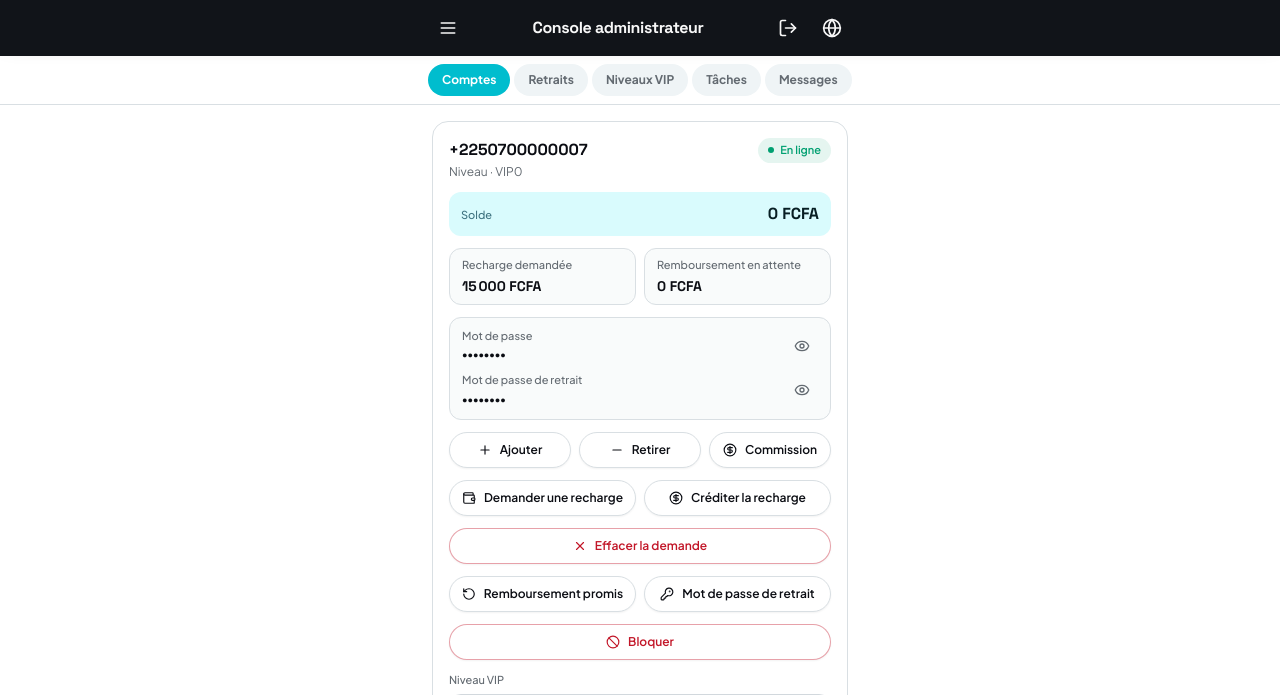
Scenario: admin recharge flow › prefills the requested recharge amount when one is already set
Click the button with test id "admin.recharge_request_button.1" at coordinates (542, 498), box [449,480,636,516]
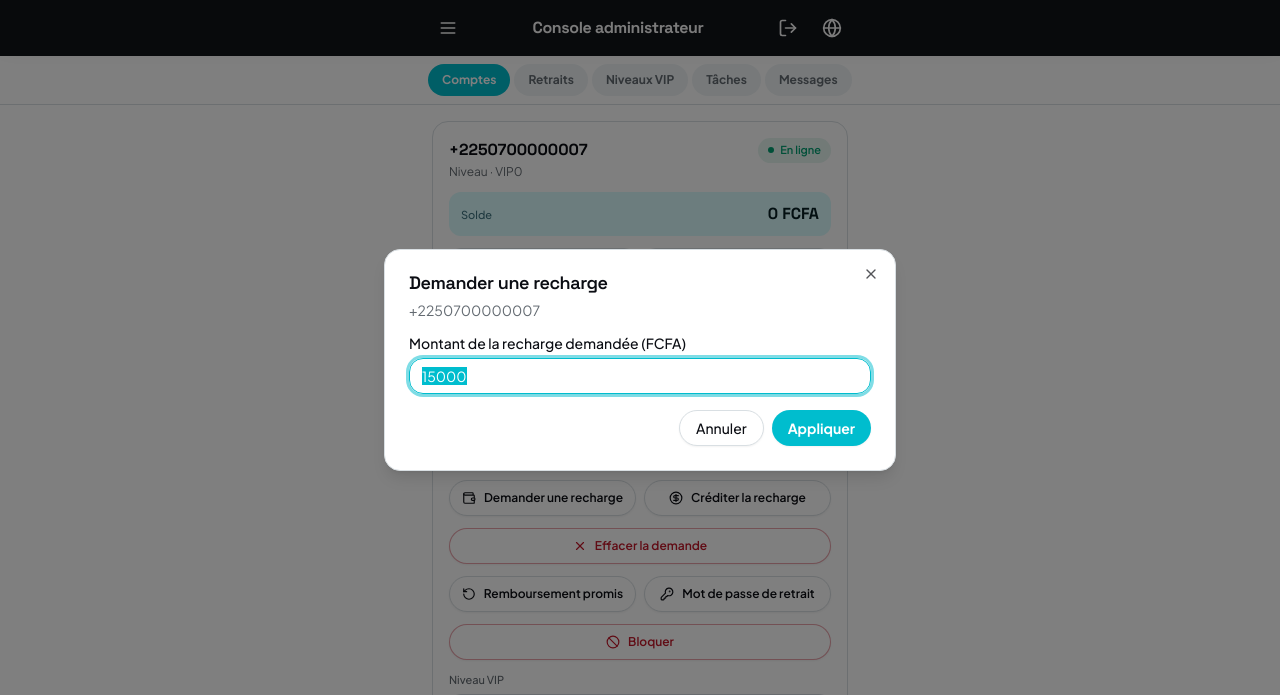
Now the field with test id "admin.amount_input" holds "15000", box [409,358,871,394]
